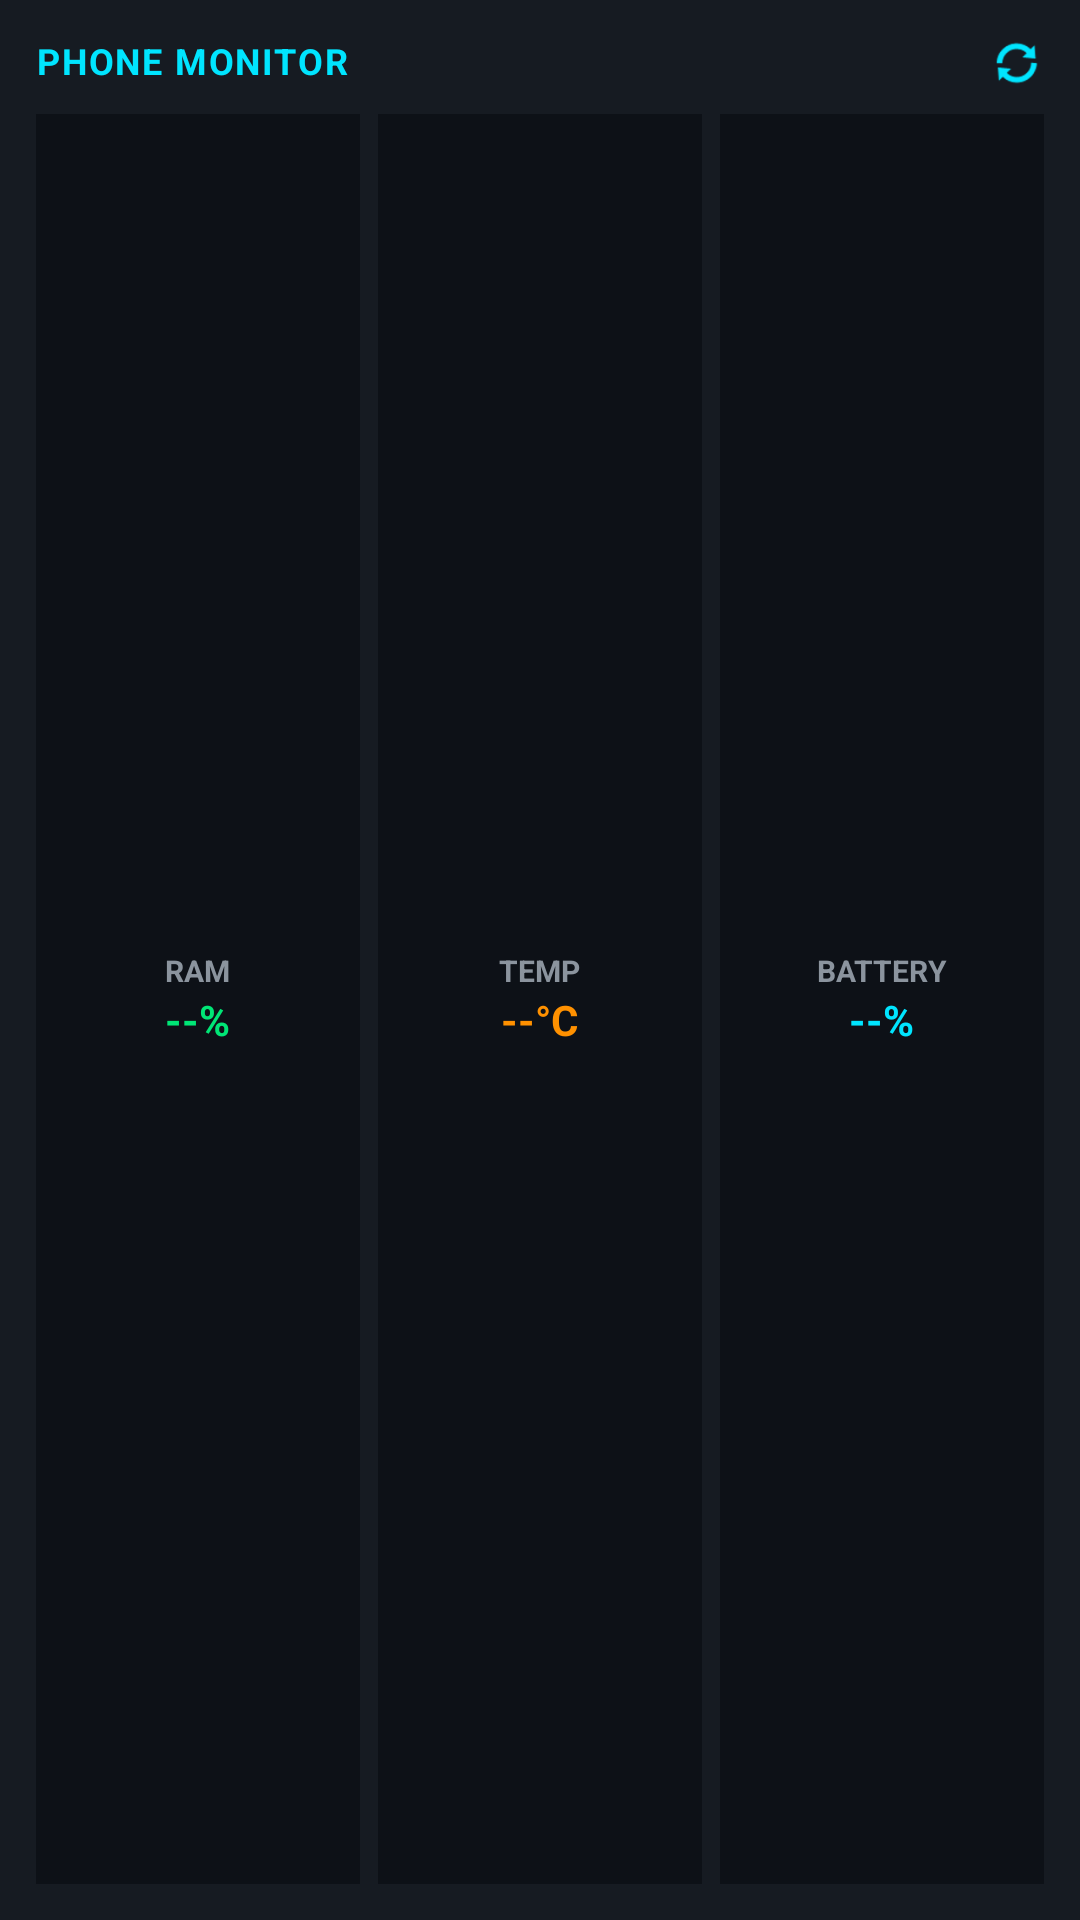

Icon click points for this 1080x1920 phone screenshot, format [x,y]:
popup sync: [1017,63]
